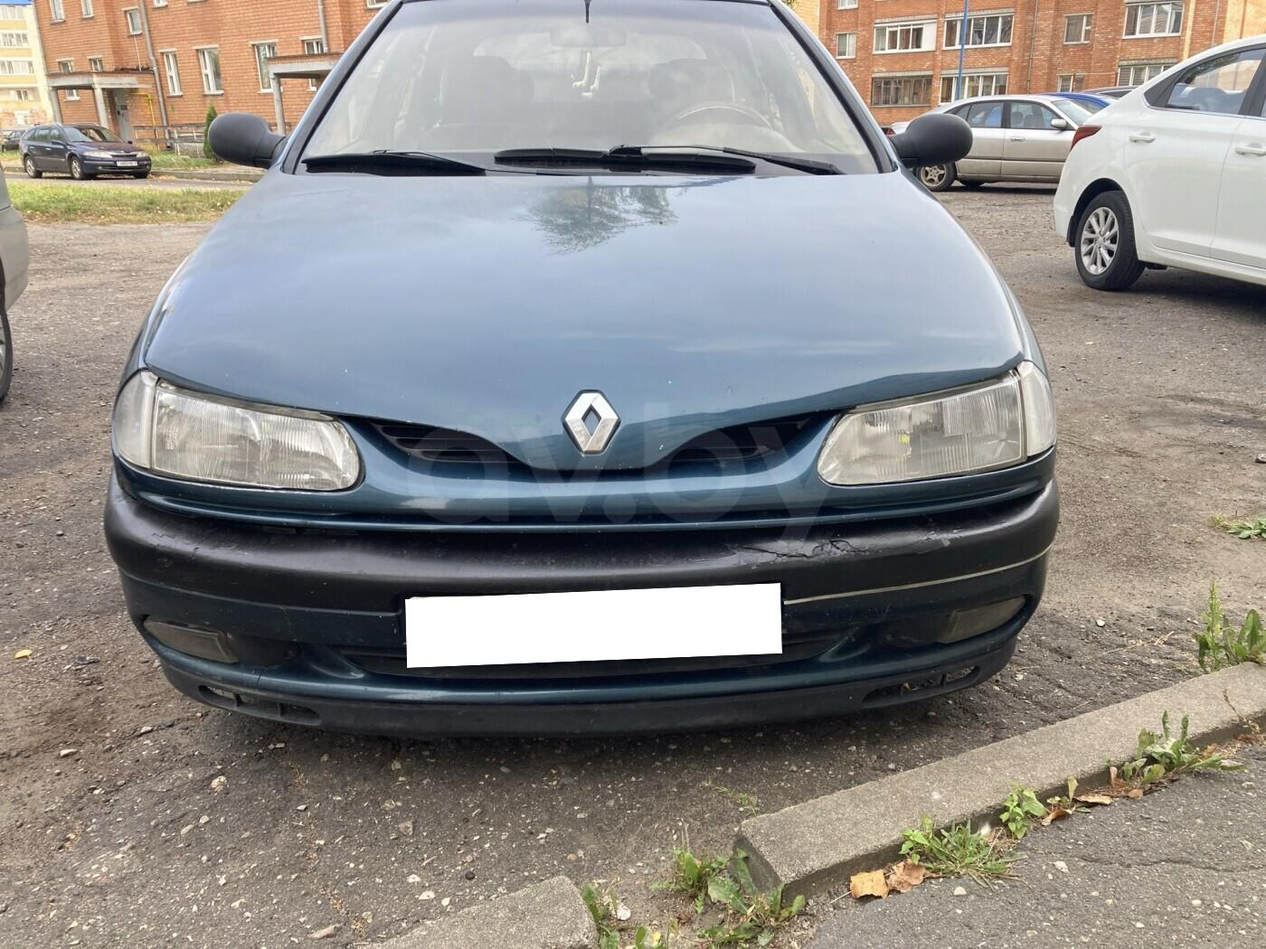Lahuna_1993-1999: (102, 0, 1067, 766)
